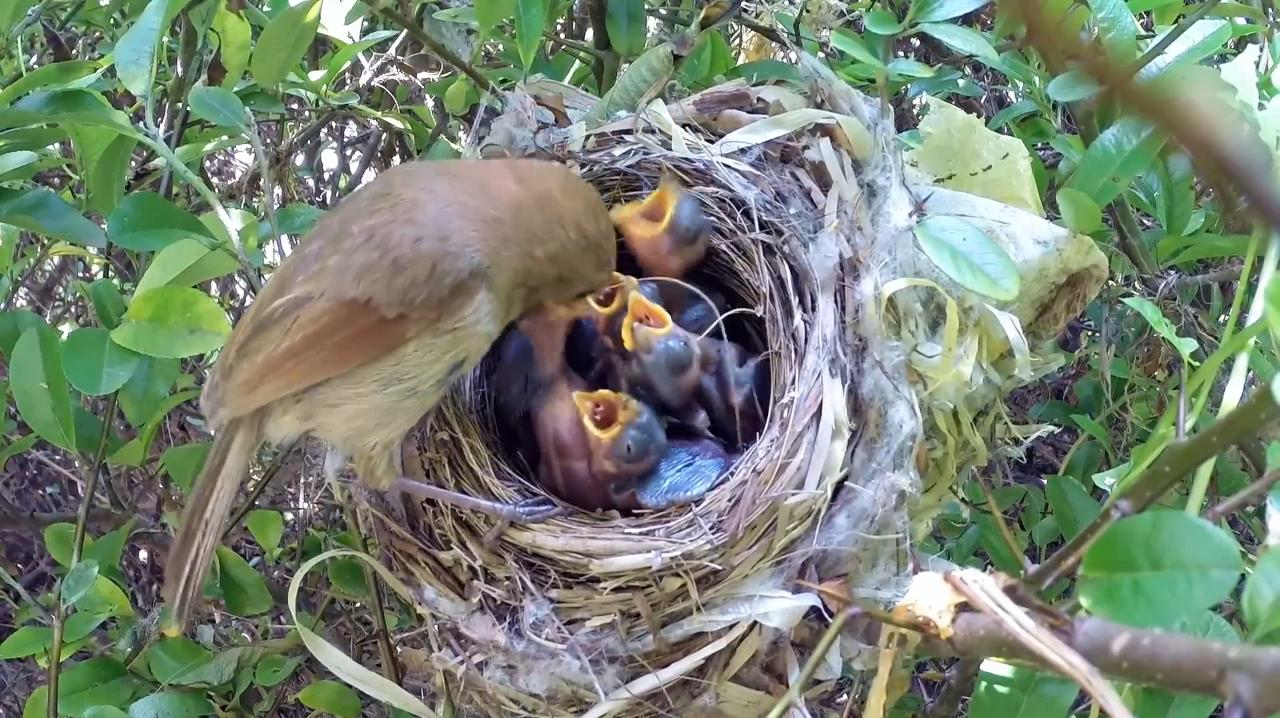bird-nest: (316, 82, 896, 697)
